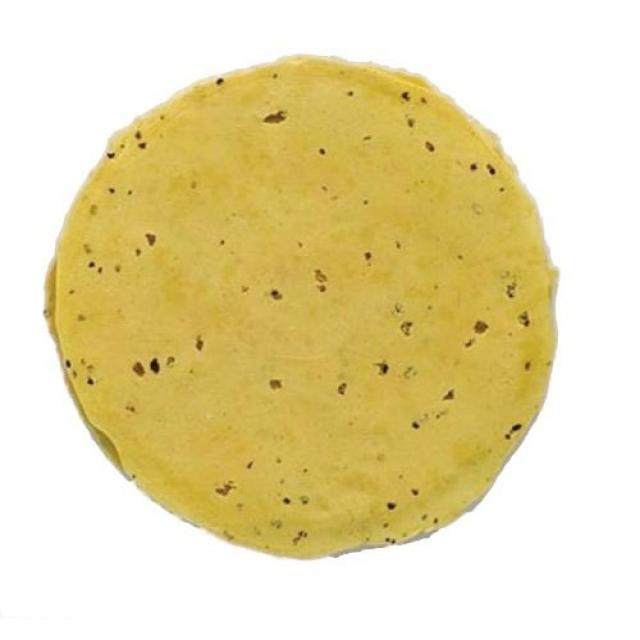papad: (56, 54, 563, 563)
